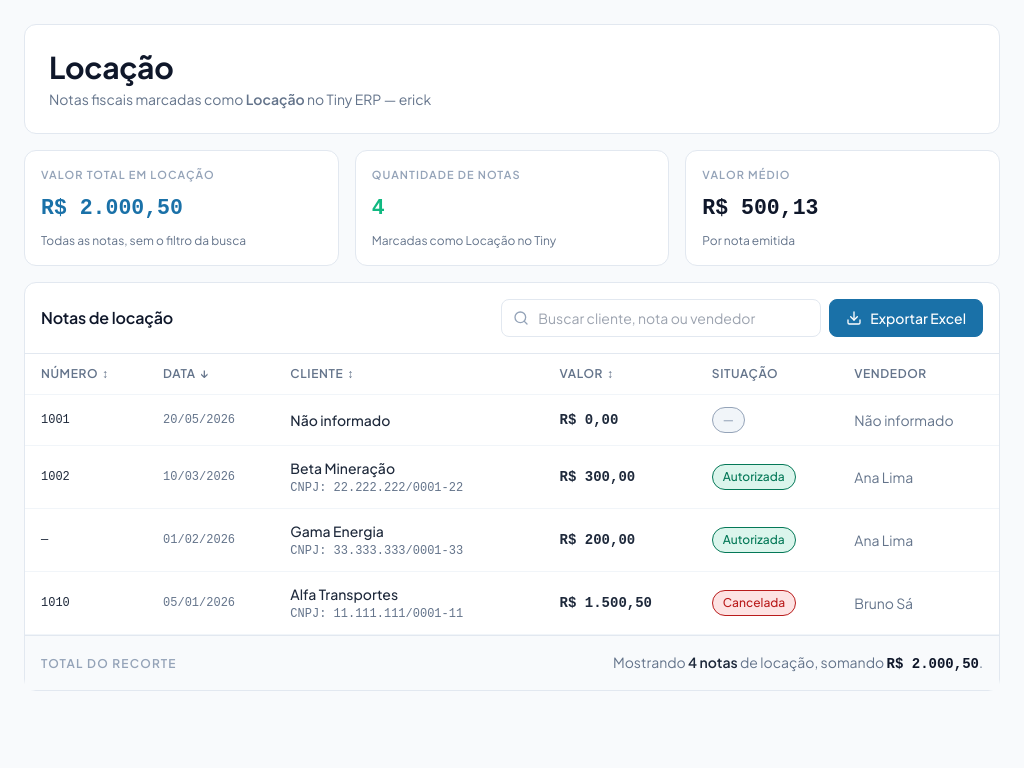
Test: Locação — busca › casa o valor pelo número cru, não pelo valor formatado
This screenshot has width=1024, height=768.
Expected: the table is shown, [25,354,999,635]
Type "1500.5" into the field at {"x": 661, "y": 318}, box [501,299,821,337]
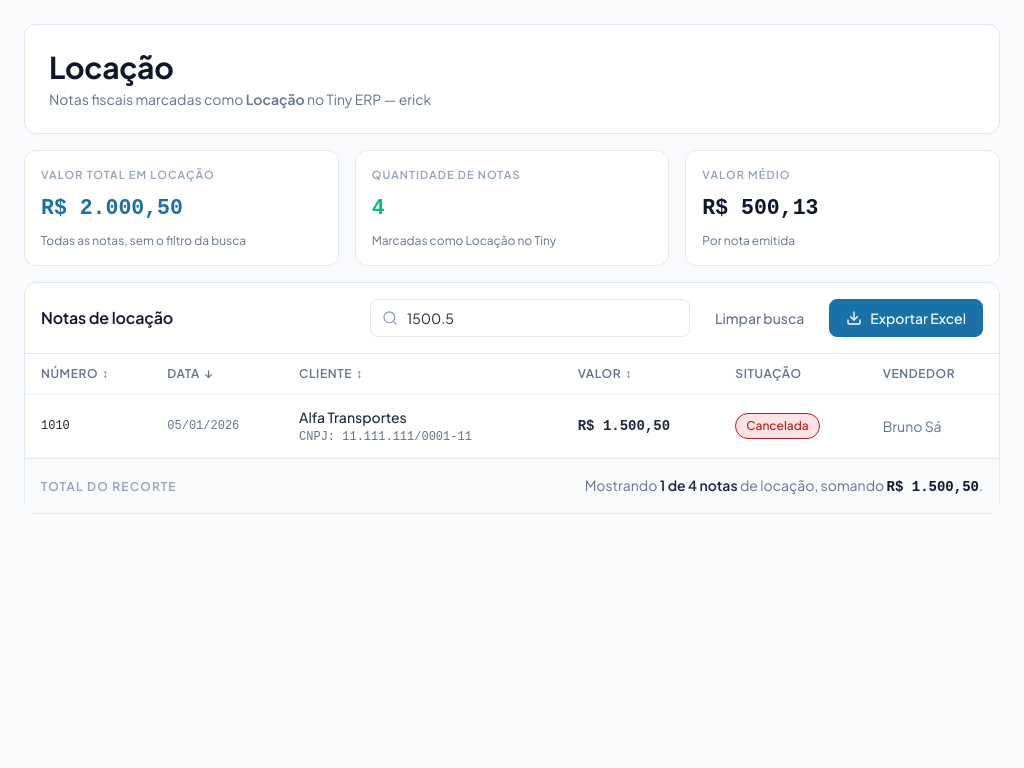
Replace the text in the field with "1.500,50" at {"x": 530, "y": 318}, box [370,299,690,337]
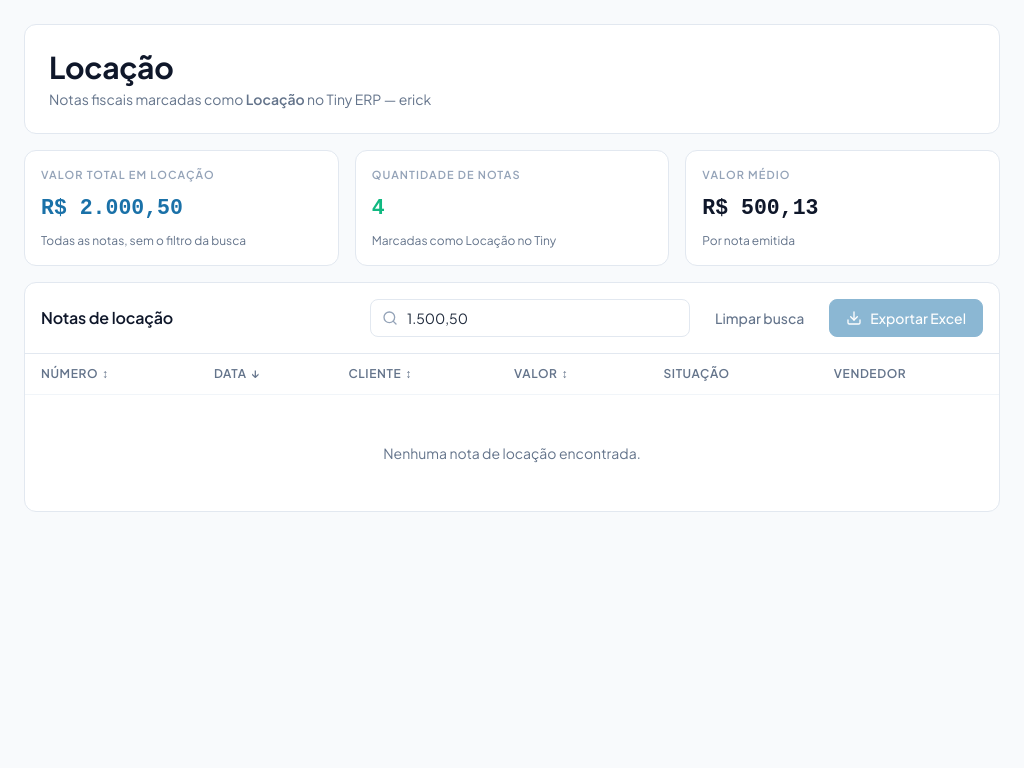
Expected: the text "Nenhuma nota de locação encontrada." is shown, [25,394,999,511]
